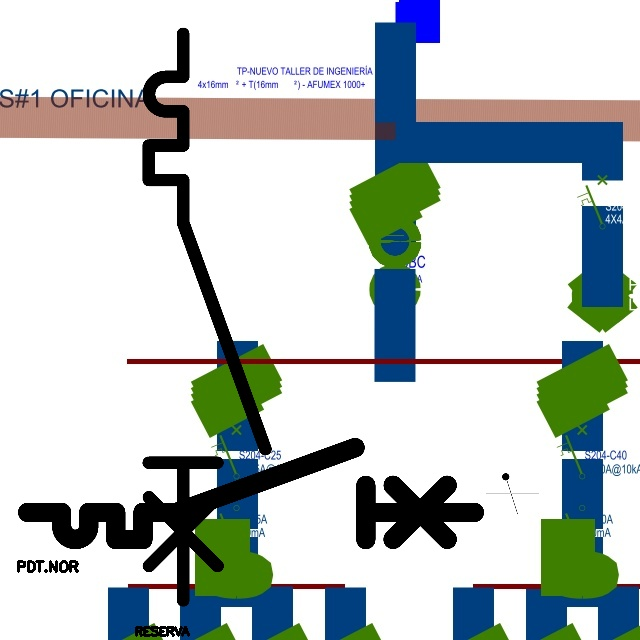interruptor_termomagnetico: (134, 19, 280, 615), (16, 436, 486, 551)
